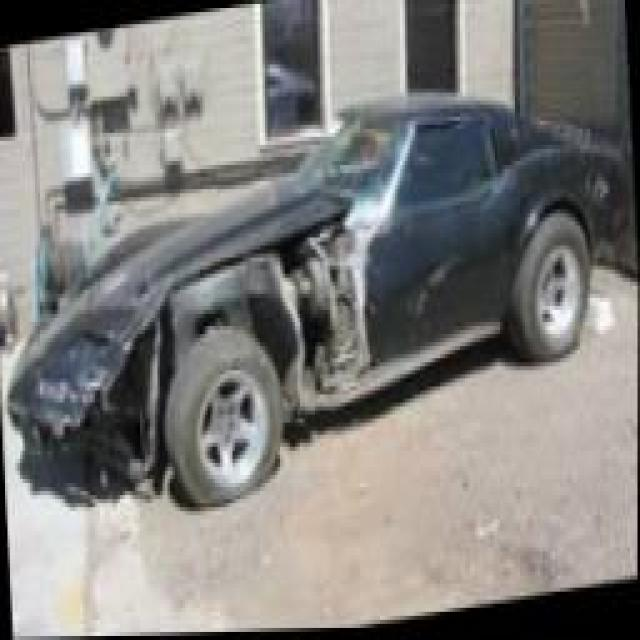Bumper: (5, 407, 154, 492)
Fender: (116, 222, 369, 407)
